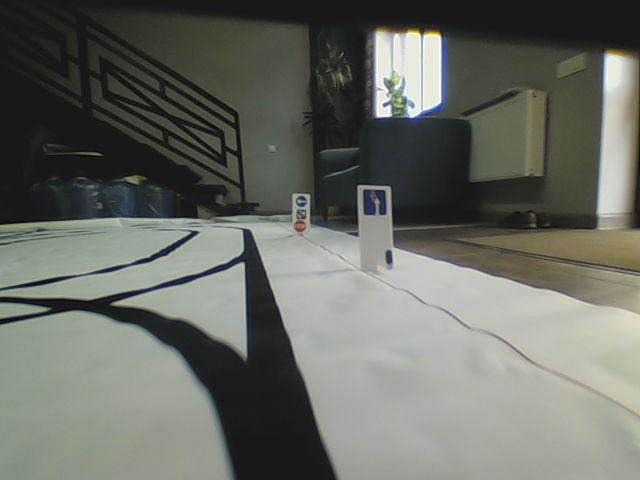priority_movement: (362, 188, 389, 218)
